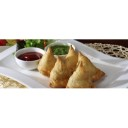samosa: (49, 54, 72, 87), (72, 61, 96, 90), (42, 47, 57, 74)
